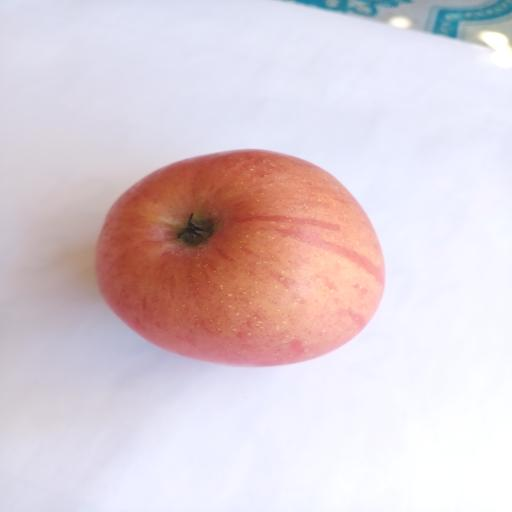apple-ripe: (78, 139, 399, 383)
